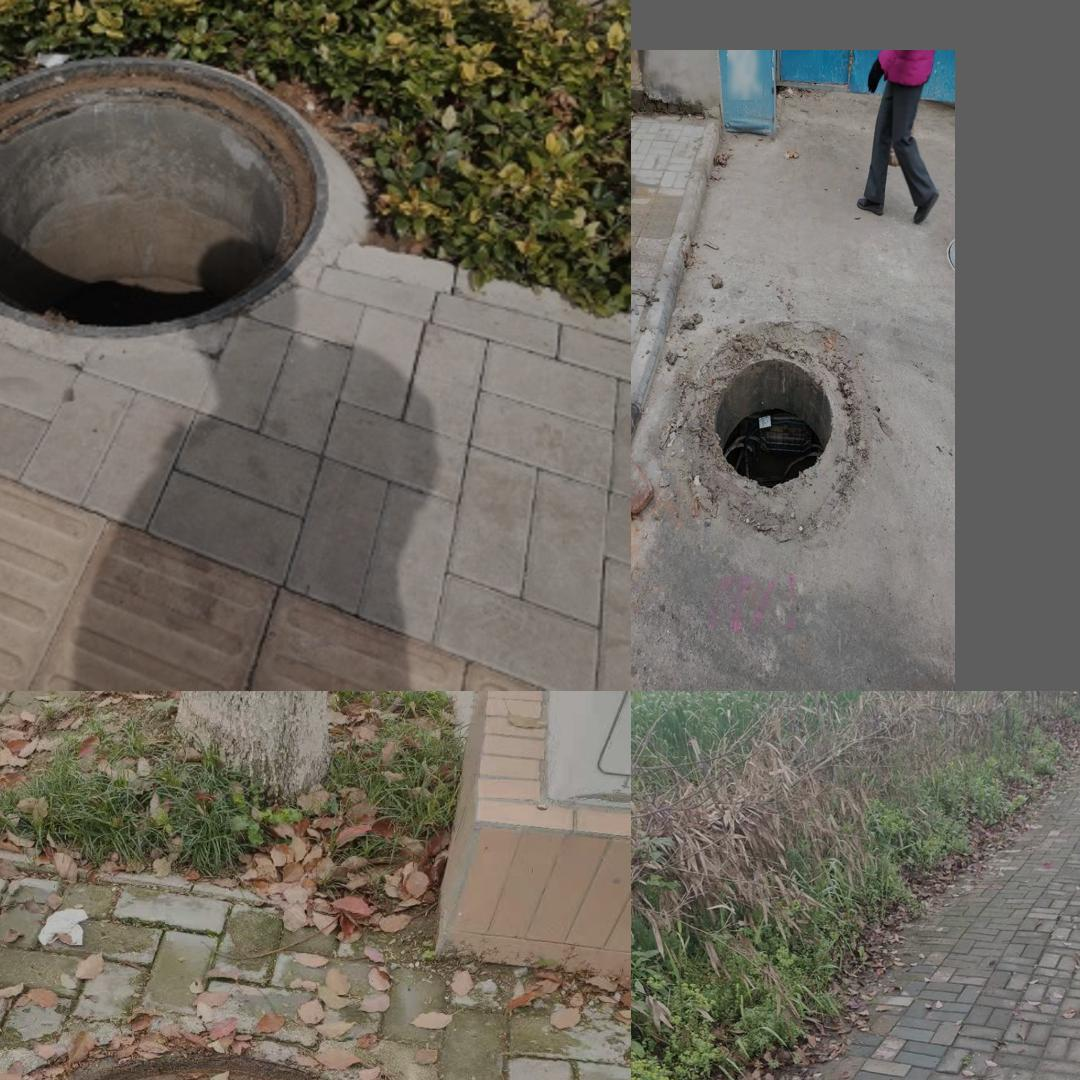lose: (0, 55, 328, 339), (0, 1023, 478, 1080), (715, 355, 834, 487)
